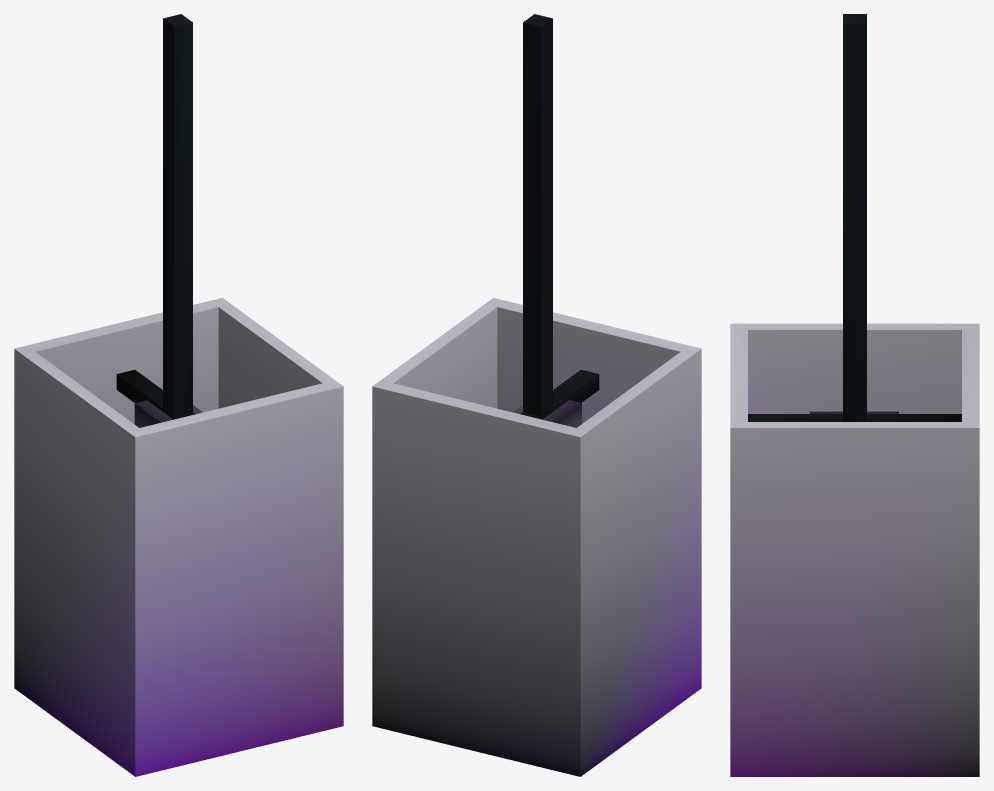
File: boxy_hanging_lamp 1.FBX
3 renders of one model, left to right at view 1: azimuth 30°, elevation 25°; view 2: azimuth 150°, elevation 25°; view 3: azimuth 270°, elevation 25°, orthographic. The views are drawn at different scales.
Visible parts, largest first — view 1: shade, boxy hanging lamp, bulb04; view 2: shade, boxy hanging lamp, bulb04; view 3: shade, boxy hanging lamp.
Part boxes in pixels (x1=…): shade: x1=14, y1=297, x2=343, y2=776; boxy hanging lamp: x1=116, y1=14, x2=195, y2=419; bulb04: x1=134, y1=400, x2=202, y2=427; shade: x1=372, y1=297, x2=701, y2=776; boxy hanging lamp: x1=520, y1=14, x2=599, y2=419; bulb04: x1=513, y1=400, x2=581, y2=427; shade: x1=730, y1=323, x2=979, y2=776; boxy hanging lamp: x1=748, y1=14, x2=961, y2=421.
Bounding box in the file's own units: 0.2826 × 0.8903 × 0.285.
